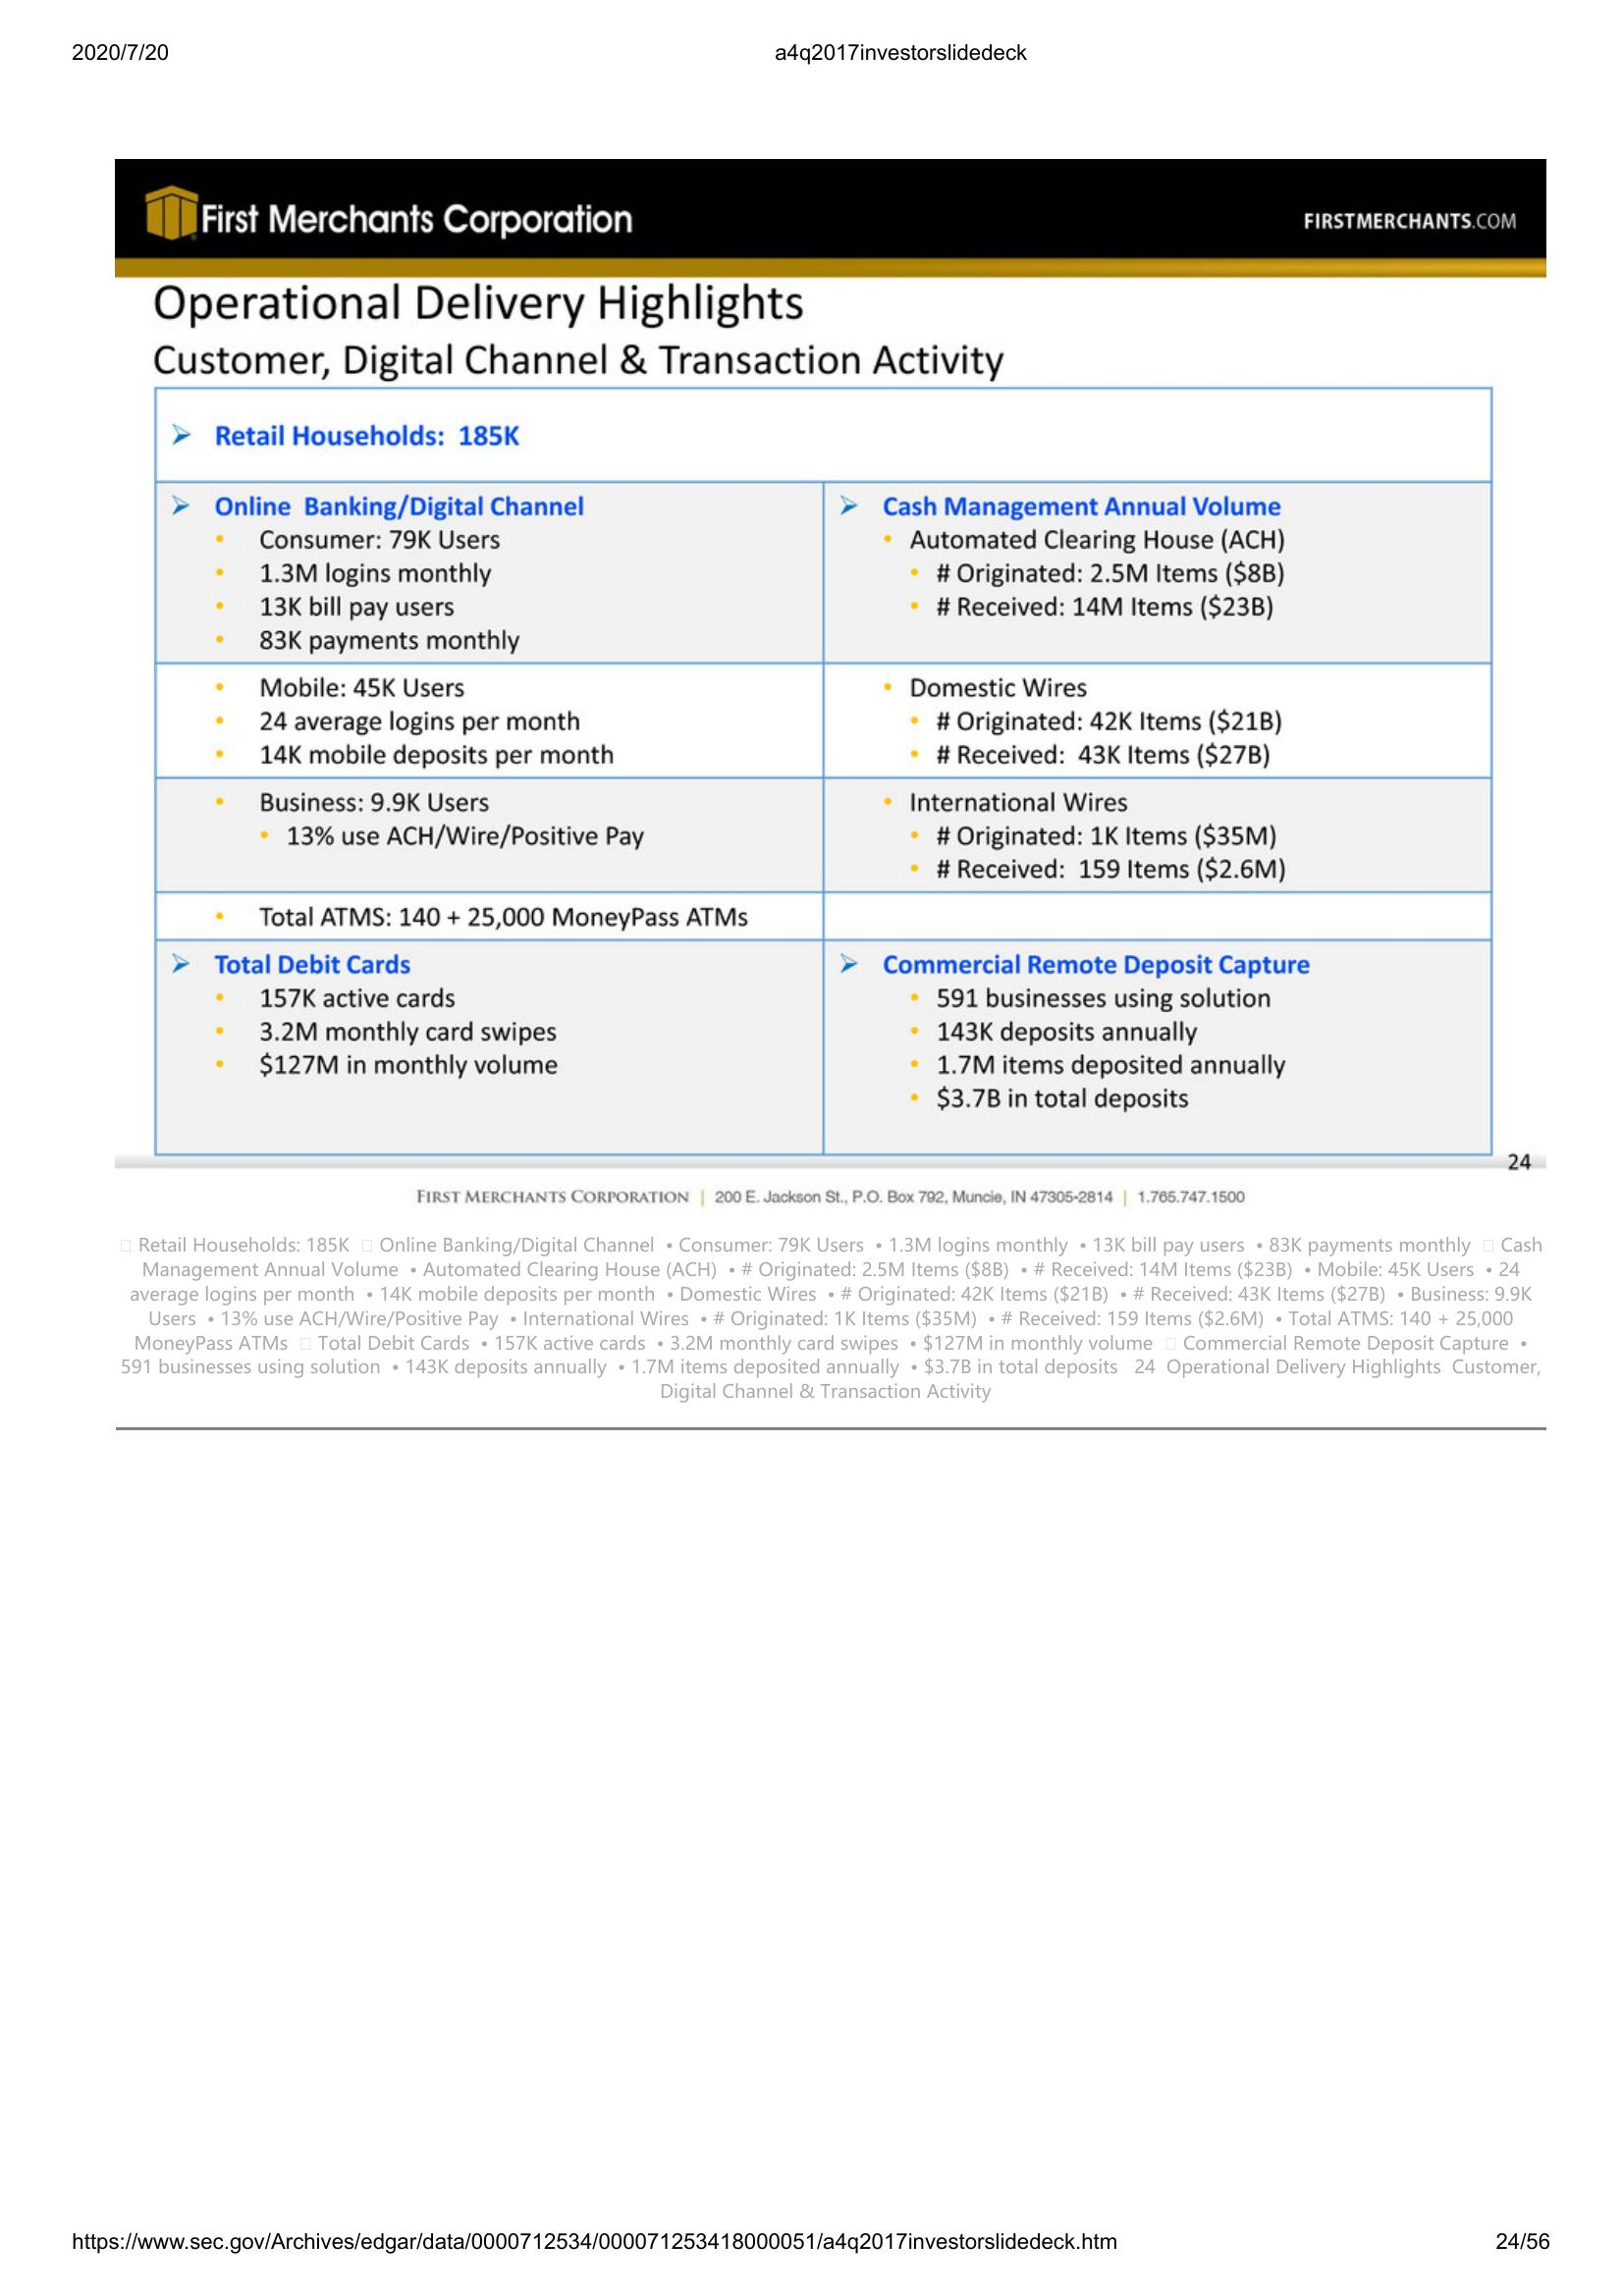table: (144, 377, 1502, 1164)
